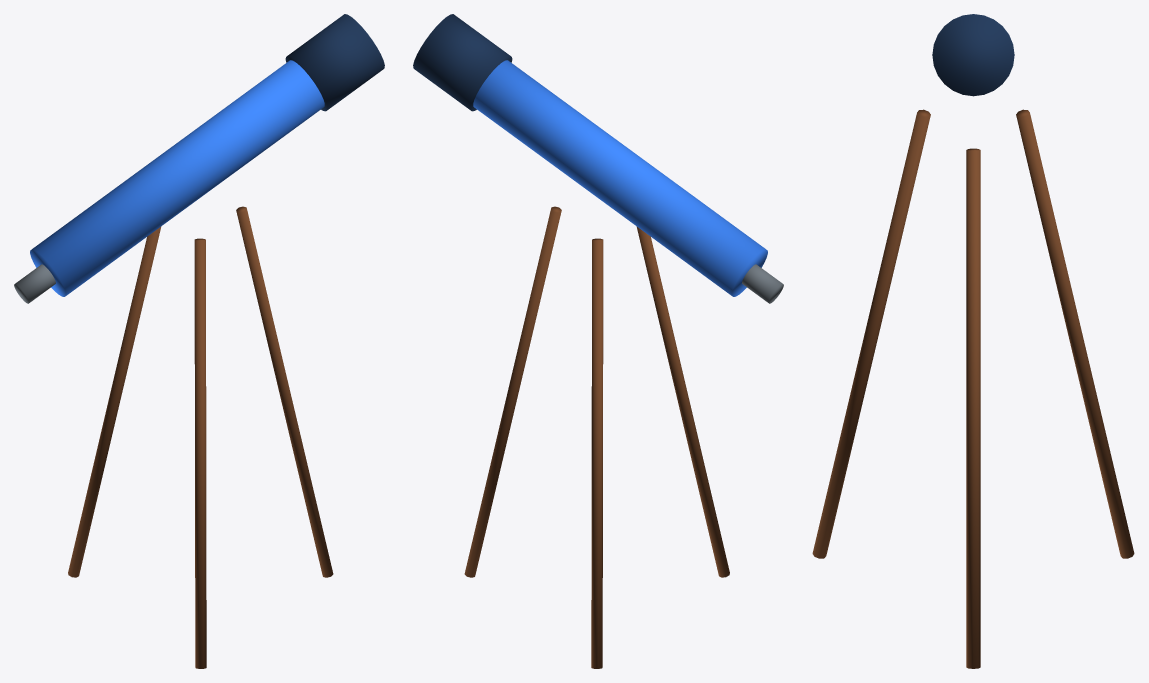
File: telescope.glb
3 renders of one model, left to right at view 1: azimuth 30°, elevation 25°; view 2: azimuth 150°, elevation 25°; view 3: azimuth 270°, elevation 25°, orthographic. The views are drawn at different scales.
Parts seen in each view (by area): view 1: telescope; view 2: telescope; view 3: telescope.
Part boxes in pixels (x1,y1,x2,y2): telescope: (14,14,384,668); telescope: (413,14,783,668); telescope: (812,14,1134,668).
Size of the model in its own units: 0.8534 by 1.26 by 0.548.
